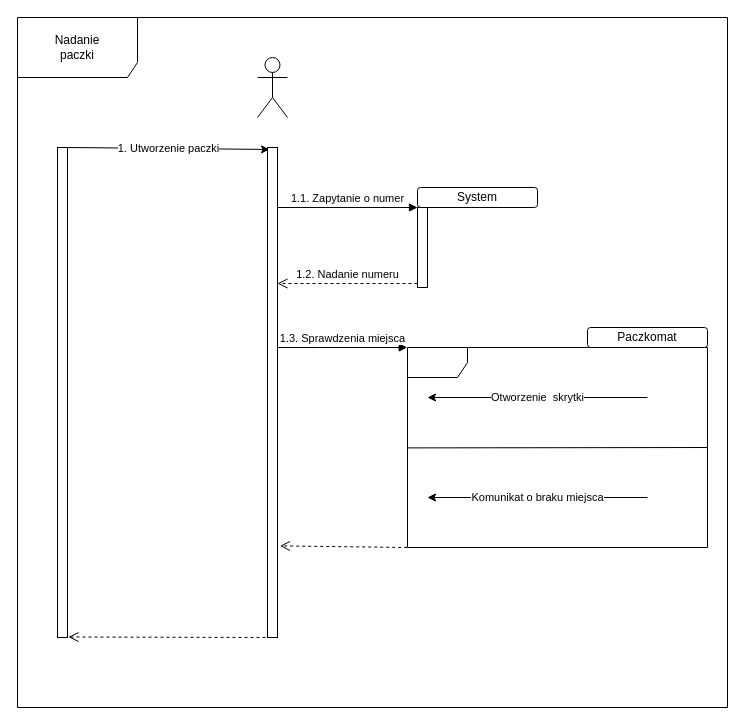
Image size: 745x725. Some labels were removed from this diagram. The box of each missing label's shape, as (x1, y1, x2, y2) in pixels:
alt: (406, 346, 708, 548)
Klient: (256, 56, 288, 118)
